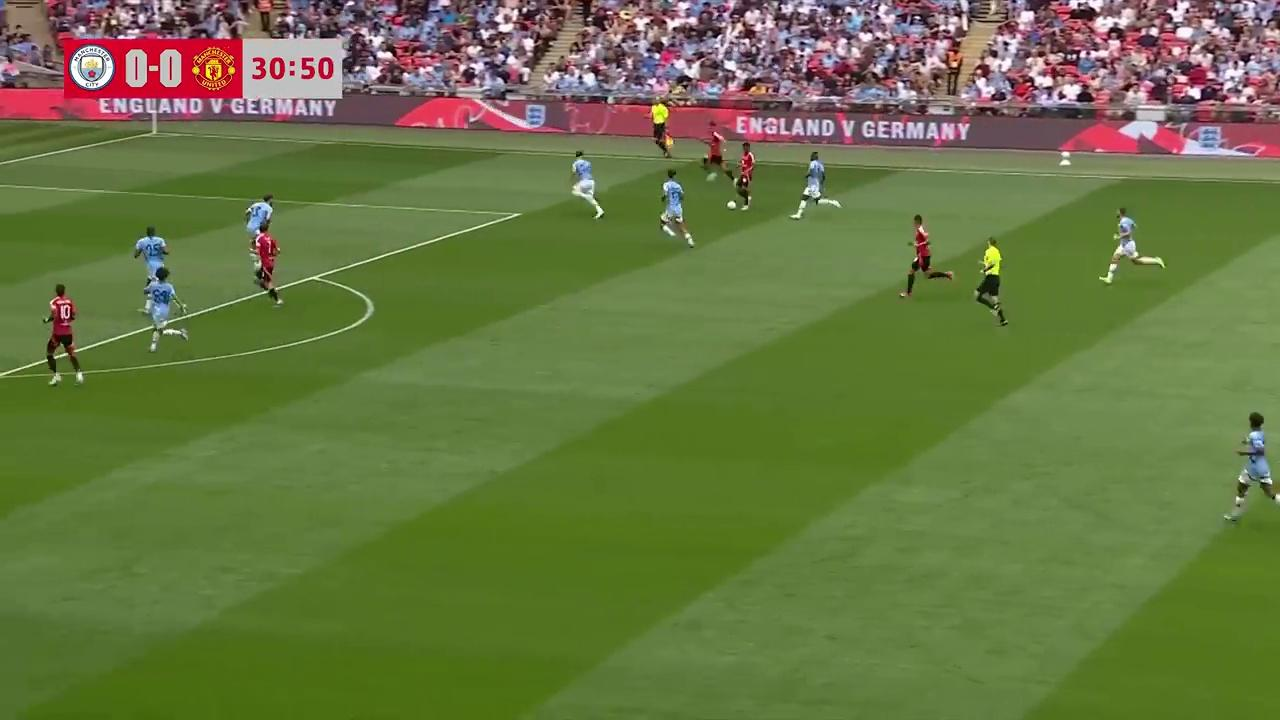ball: (725, 197, 739, 210)
player: (1223, 413, 1279, 521), (42, 283, 85, 387), (899, 214, 949, 298), (140, 268, 189, 352), (1100, 207, 1146, 283), (792, 152, 838, 218), (133, 225, 173, 297), (659, 170, 695, 248), (252, 226, 283, 308), (569, 151, 603, 220), (243, 193, 274, 259), (728, 143, 755, 211), (700, 131, 730, 182)
referee: (976, 237, 1011, 328), (651, 103, 674, 159)
